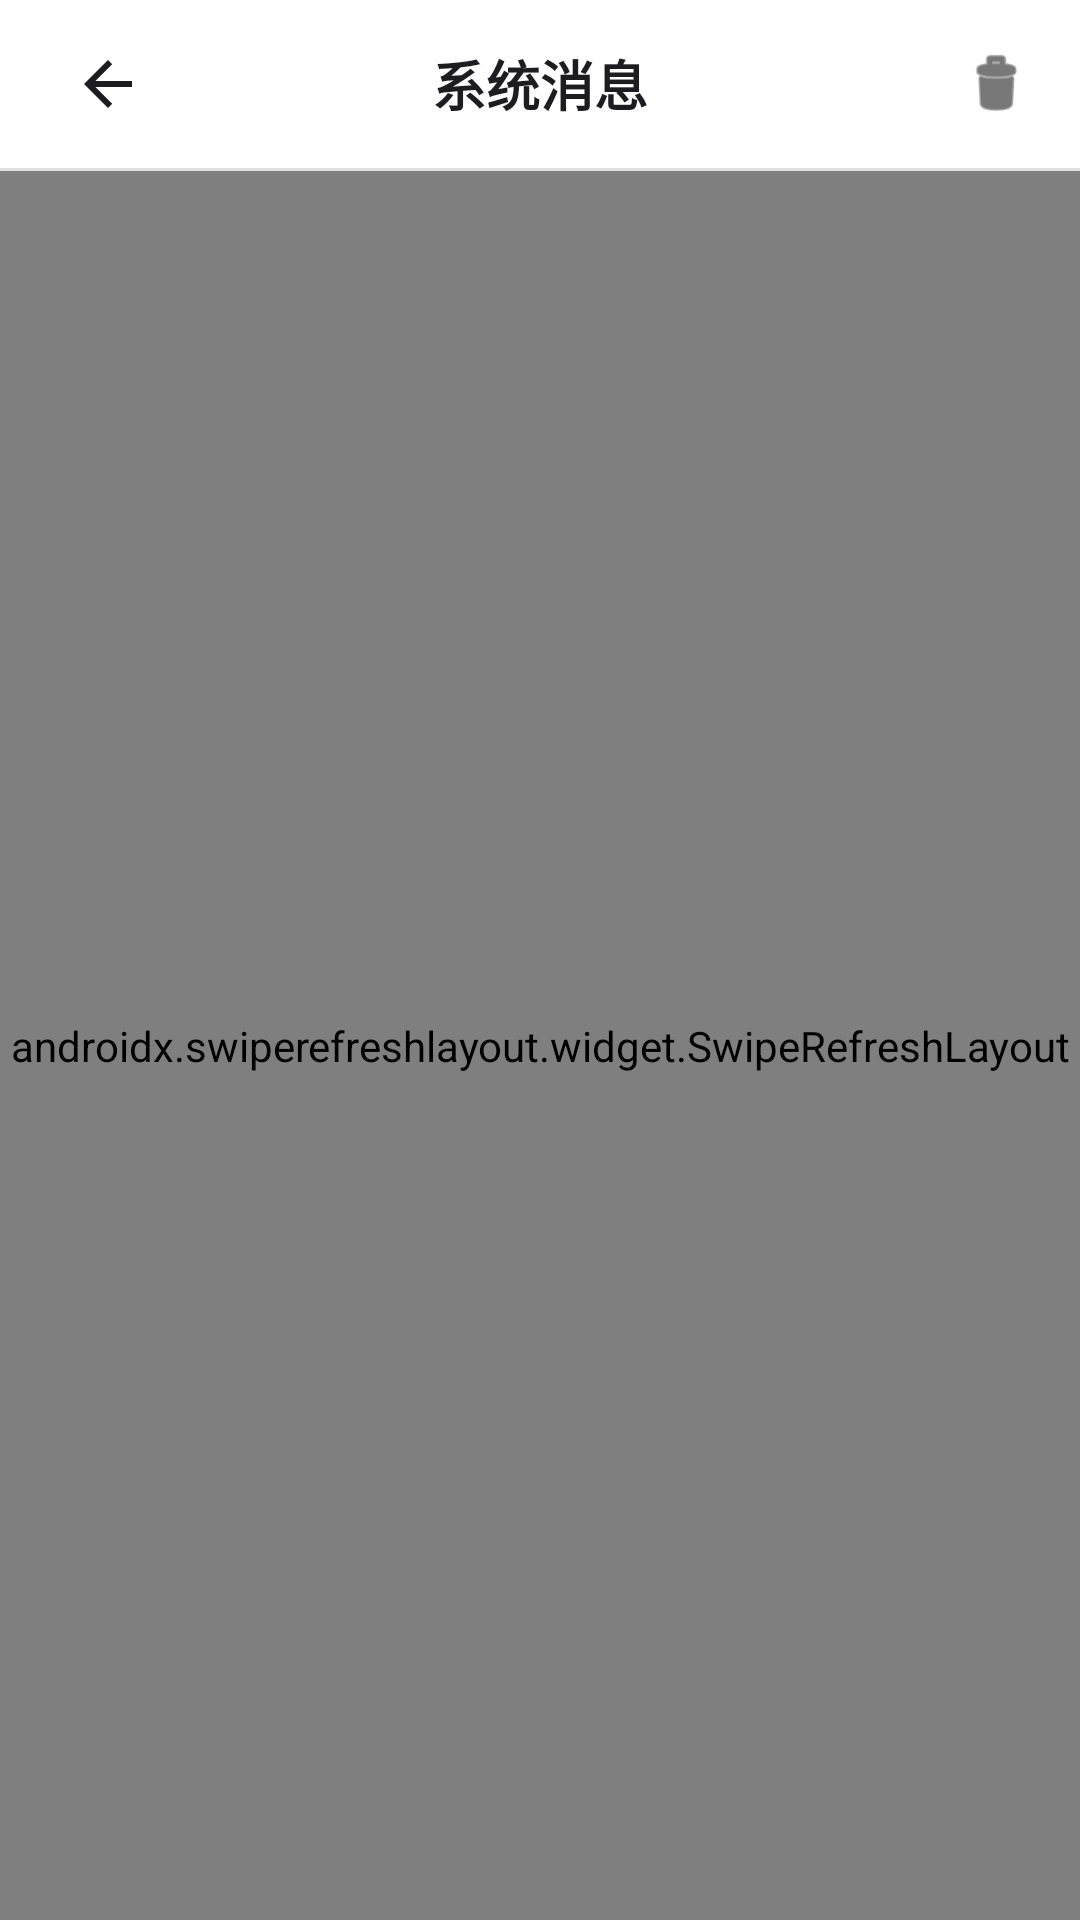

Where to tap for icons on this 1080w x 1920h app screen, as (x,y):
delete: (996,83)
